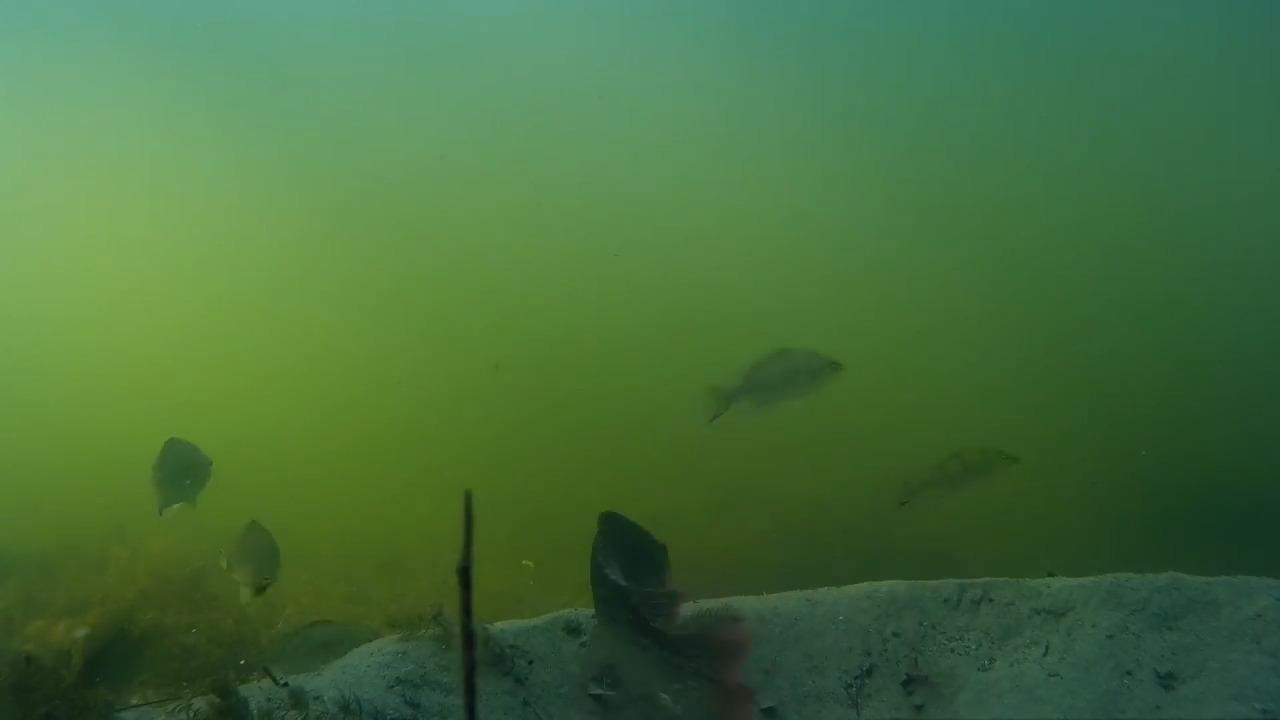Tilapia: (691, 338, 851, 434), (876, 439, 1035, 516), (224, 606, 377, 686), (206, 512, 291, 612), (138, 420, 221, 512)
